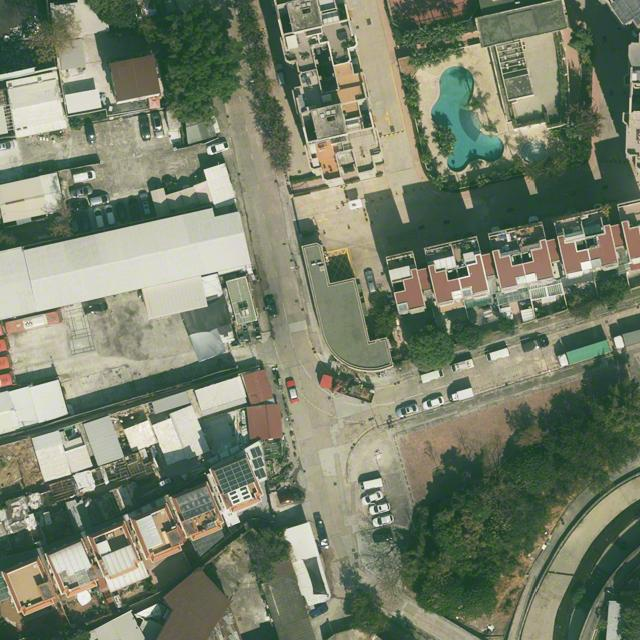panel: (215, 459, 255, 495), (252, 457, 264, 469), (251, 446, 262, 458), (255, 468, 266, 479)
